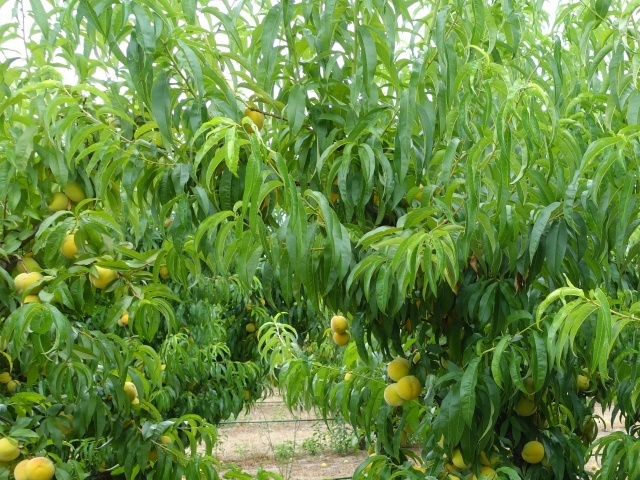peach: (83, 261, 116, 292), (53, 232, 84, 263), (22, 454, 58, 480), (394, 374, 427, 402), (381, 354, 414, 382), (41, 189, 74, 217), (518, 439, 547, 469), (377, 382, 406, 411), (242, 104, 268, 135), (513, 393, 541, 420), (18, 271, 46, 296), (1, 431, 23, 460), (327, 327, 352, 348), (446, 448, 468, 469), (326, 313, 349, 333)
